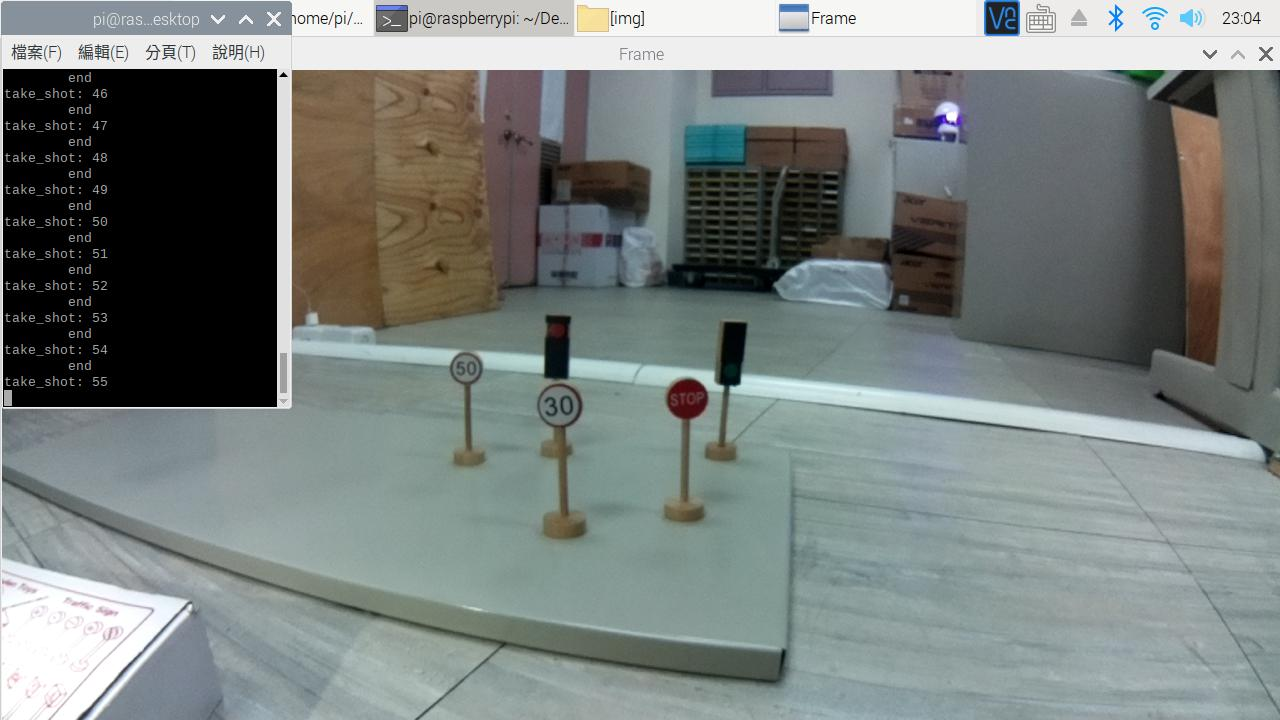Green: (720, 318, 753, 386)
Red: (544, 313, 570, 382)
Speed30: (531, 382, 583, 433)
Speed50: (449, 349, 484, 390)
Stop: (664, 374, 710, 424)
